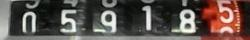digits: (216, 0, 236, 39), (91, 10, 117, 32), (59, 9, 77, 35), (178, 8, 196, 32), (141, 5, 154, 33), (21, 11, 36, 32)
